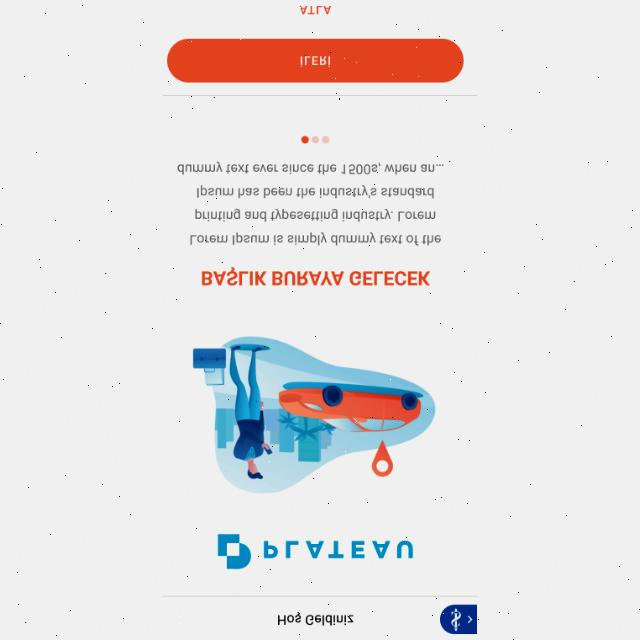QLabel: (273, 610, 357, 630), (290, 0, 336, 20), (296, 50, 336, 72)
VAppBar: (163, 598, 477, 640)
VBtn: (166, 38, 468, 82)
VCarousel: (163, 119, 475, 584)
VImg: (440, 604, 478, 636)
